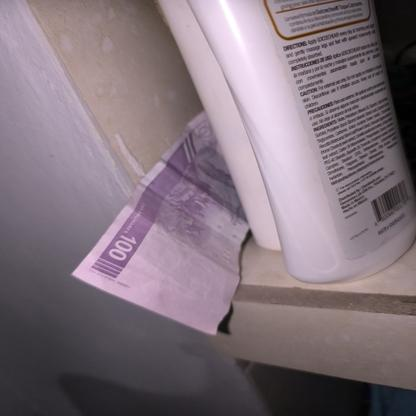one_hundred-back-vef: (70, 110, 250, 336)
